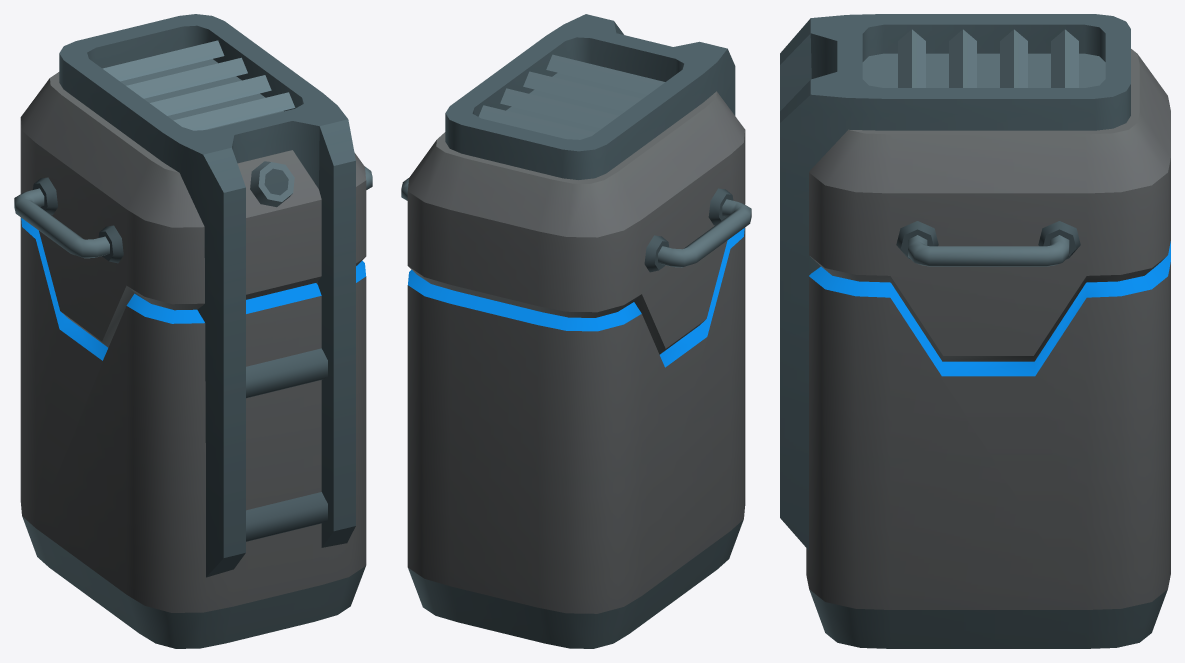
Rendered from Barrel_010.glb.
The picture shows the model from 3 angles, left to right: view 1: azimuth 30°, elevation 25°; view 2: azimuth 150°, elevation 25°; view 3: azimuth 270°, elevation 25°; orthographic projection. The views are drawn at different scales.
Visible parts, largest first — view 1: Barrel_010; view 2: Barrel_010; view 3: Barrel_010.
Boxes of the visible parts, box(x1,y1,x2,y2) form: Barrel_010: box(14, 14, 372, 648); Barrel_010: box(401, 14, 751, 648); Barrel_010: box(780, 14, 1170, 648).
Size of the model in its own units: 0.669 by 1.06 by 0.6966.
2 materials, 2 textured.
